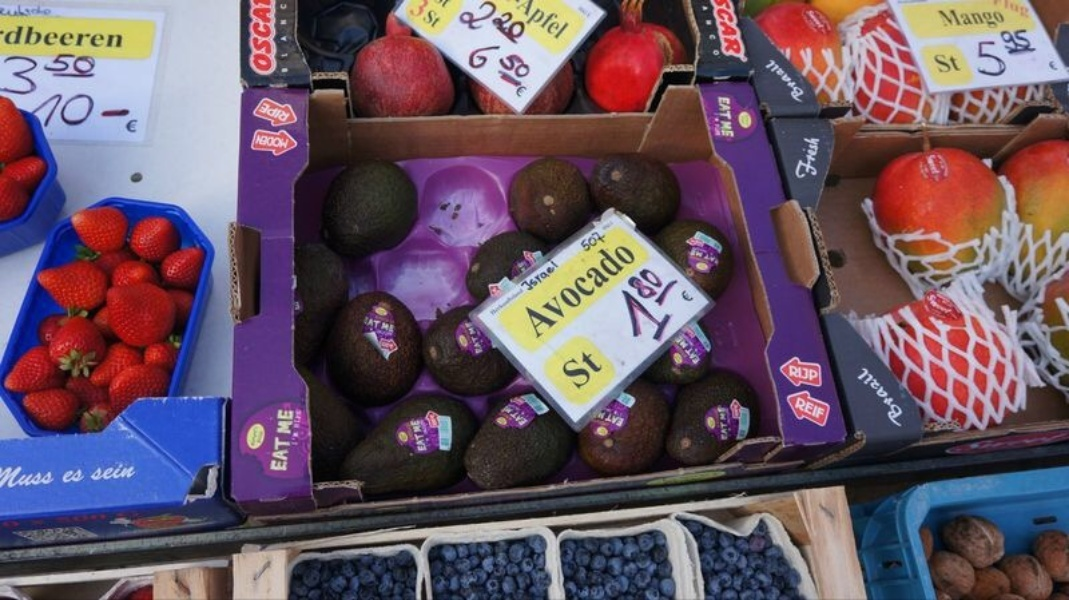text: (625, 240, 641, 341), (529, 240, 544, 341), (545, 240, 560, 341), (561, 240, 576, 341), (577, 240, 592, 341), (593, 240, 608, 341), (609, 240, 624, 341), (257, 7, 272, 73), (865, 367, 880, 431), (881, 367, 896, 431), (721, 1, 736, 55), (625, 288, 640, 341), (641, 288, 656, 341), (657, 288, 672, 341), (545, 1, 560, 51), (785, 59, 800, 107), (561, 349, 576, 393), (577, 349, 592, 393), (561, 1, 574, 51), (721, 95, 735, 141), (33, 90, 48, 131), (49, 90, 64, 131), (17, 54, 32, 94), (532, 1, 544, 51), (2, 54, 16, 94), (977, 41, 992, 78), (993, 41, 1008, 78), (804, 135, 816, 181), (81, 93, 96, 129), (465, 1, 480, 37), (481, 1, 496, 37), (529, 258, 544, 294), (545, 258, 560, 294), (773, 59, 784, 107), (513, 10, 528, 45), (897, 367, 905, 431), (523, 240, 528, 341), (274, 436, 288, 472), (593, 349, 604, 393), (67, 93, 80, 129), (465, 45, 480, 75), (481, 45, 496, 75), (497, 54, 512, 83), (513, 54, 528, 83), (516, 258, 528, 294), (993, 6, 1009, 33), (593, 229, 608, 256), (945, 6, 960, 33), (961, 6, 976, 33), (977, 6, 992, 33), (801, 395, 816, 421), (1009, 29, 1024, 54), (646, 268, 656, 305), (17, 25, 32, 49), (33, 25, 48, 49), (49, 25, 64, 49), (65, 25, 80, 49), (81, 25, 96, 49), (97, 25, 112, 49), (579, 229, 592, 256), (1, 467, 16, 490), (17, 467, 32, 490), (33, 467, 48, 490), (801, 59, 808, 107), (657, 268, 666, 305), (49, 53, 64, 75), (65, 53, 80, 75), (81, 53, 96, 75), (273, 101, 288, 123), (945, 53, 960, 75), (714, 1, 720, 55), (456, 1, 464, 37), (931, 53, 944, 75), (97, 463, 112, 482), (113, 463, 128, 482), (737, 1, 742, 55), (801, 365, 816, 383), (619, 288, 624, 341), (5, 25, 16, 49), (252, 7, 256, 73), (278, 409, 288, 435), (1025, 29, 1035, 54), (33, 54, 39, 94), (113, 25, 123, 49), (273, 134, 289, 149), (817, 395, 826, 421), (715, 95, 720, 141), (1, 3, 16, 18), (17, 3, 32, 18), (33, 3, 48, 18), (999, 29, 1008, 54), (258, 134, 272, 149), (497, 45, 504, 75), (433, 10, 443, 30), (65, 470, 80, 483), (937, 6, 944, 33), (817, 135, 821, 181), (97, 93, 102, 129), (790, 365, 800, 383), (264, 101, 272, 123), (556, 349, 560, 393), (529, 54, 535, 83), (129, 463, 137, 482), (1009, 41, 1013, 78), (49, 467, 55, 490), (289, 409, 294, 435), (289, 436, 292, 472), (497, 1, 500, 37), (673, 288, 675, 341), (91, 463, 96, 482), (961, 53, 965, 75), (30, 90, 32, 131), (797, 395, 800, 421), (49, 3, 54, 18), (510, 10, 512, 45), (289, 101, 292, 123), (81, 470, 85, 483), (65, 90, 66, 131), (529, 10, 530, 45), (97, 53, 98, 75), (817, 365, 818, 383), (63, 470, 64, 483)
